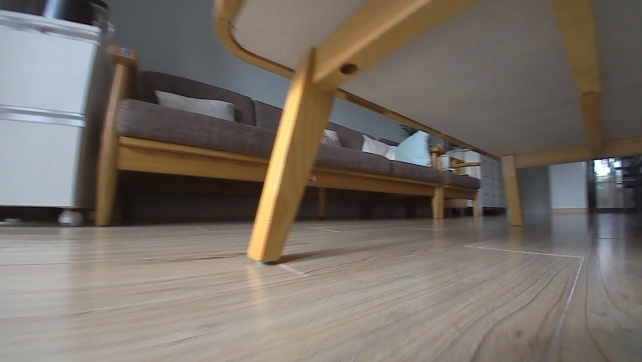sofa: (89, 42, 485, 230)
